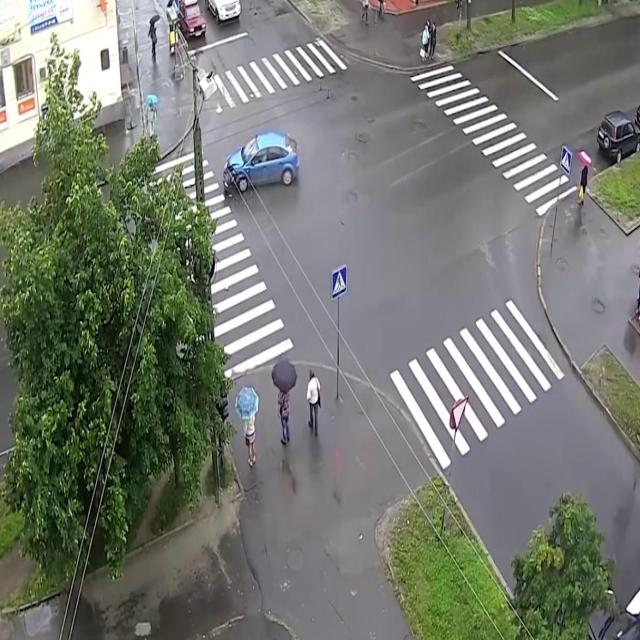accident: (218, 124, 308, 206)
